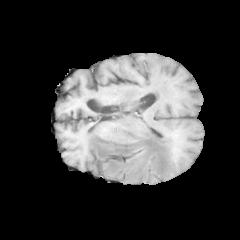glioma: (84, 119, 175, 180)
